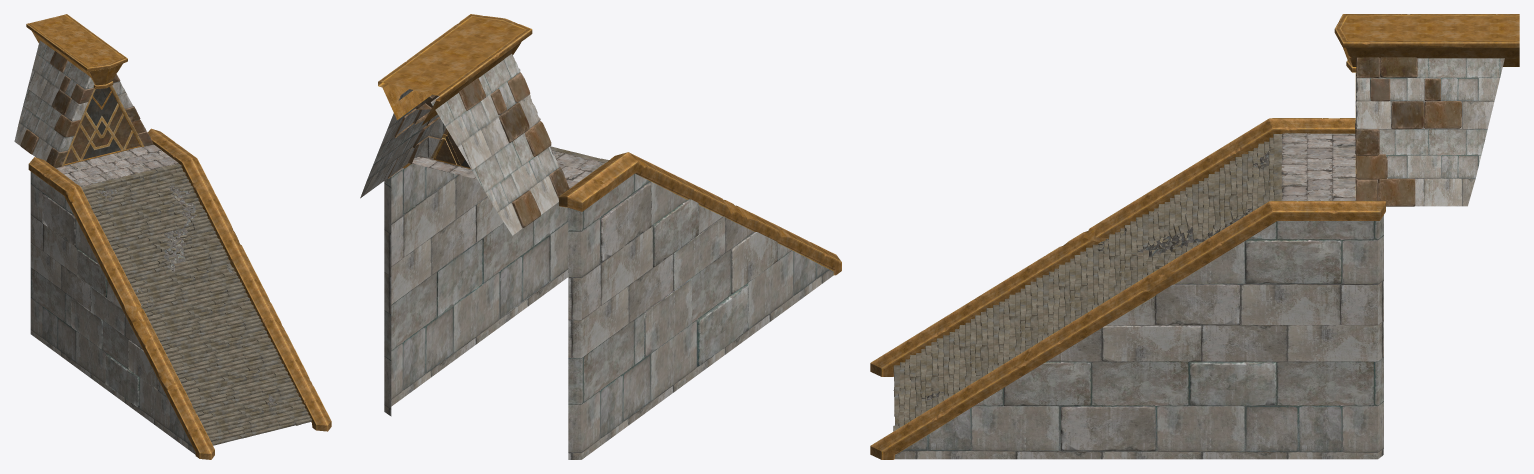
3 views of the same model, side by side, from view 1: azimuth 30°, elevation 25°; view 2: azimuth 150°, elevation 25°; view 3: azimuth 270°, elevation 25° (orthographic). The views are drawn at different scales.
Parts seen in each view (by area): view 1: SM_DK_Pyramid_Entrance_01v1_LOD0; view 2: SM_DK_Pyramid_Entrance_01v1_LOD0; view 3: SM_DK_Pyramid_Entrance_01v1_LOD0.
Boxes of the visible parts, x1,y1,x2,y2 form: SM_DK_Pyramid_Entrance_01v1_LOD0: (14,14,331,459); SM_DK_Pyramid_Entrance_01v1_LOD0: (360,14,841,459); SM_DK_Pyramid_Entrance_01v1_LOD0: (870,14,1519,459).
Size of the model in its own units: 12.03 by 22.93 by 35.08.
Materials: 8 (8 with a texture image).
